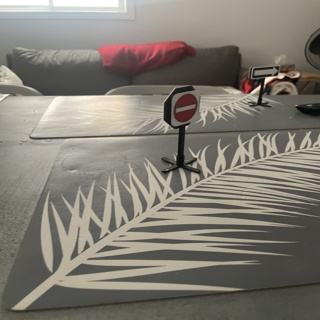sign_noentry: (170, 91, 200, 122)
